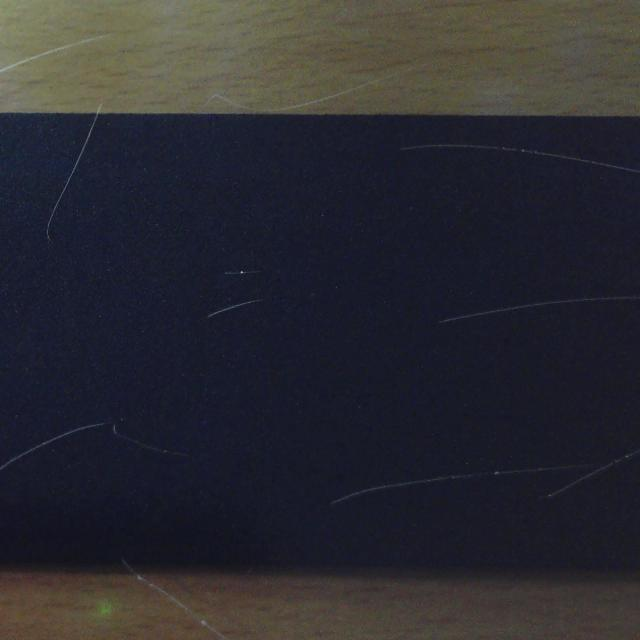defect: (331, 464, 599, 506), (396, 141, 640, 175), (43, 114, 100, 244), (443, 293, 640, 321), (2, 422, 107, 471), (546, 448, 640, 499), (115, 425, 184, 458), (211, 298, 259, 317), (121, 557, 145, 575), (228, 268, 265, 276)
